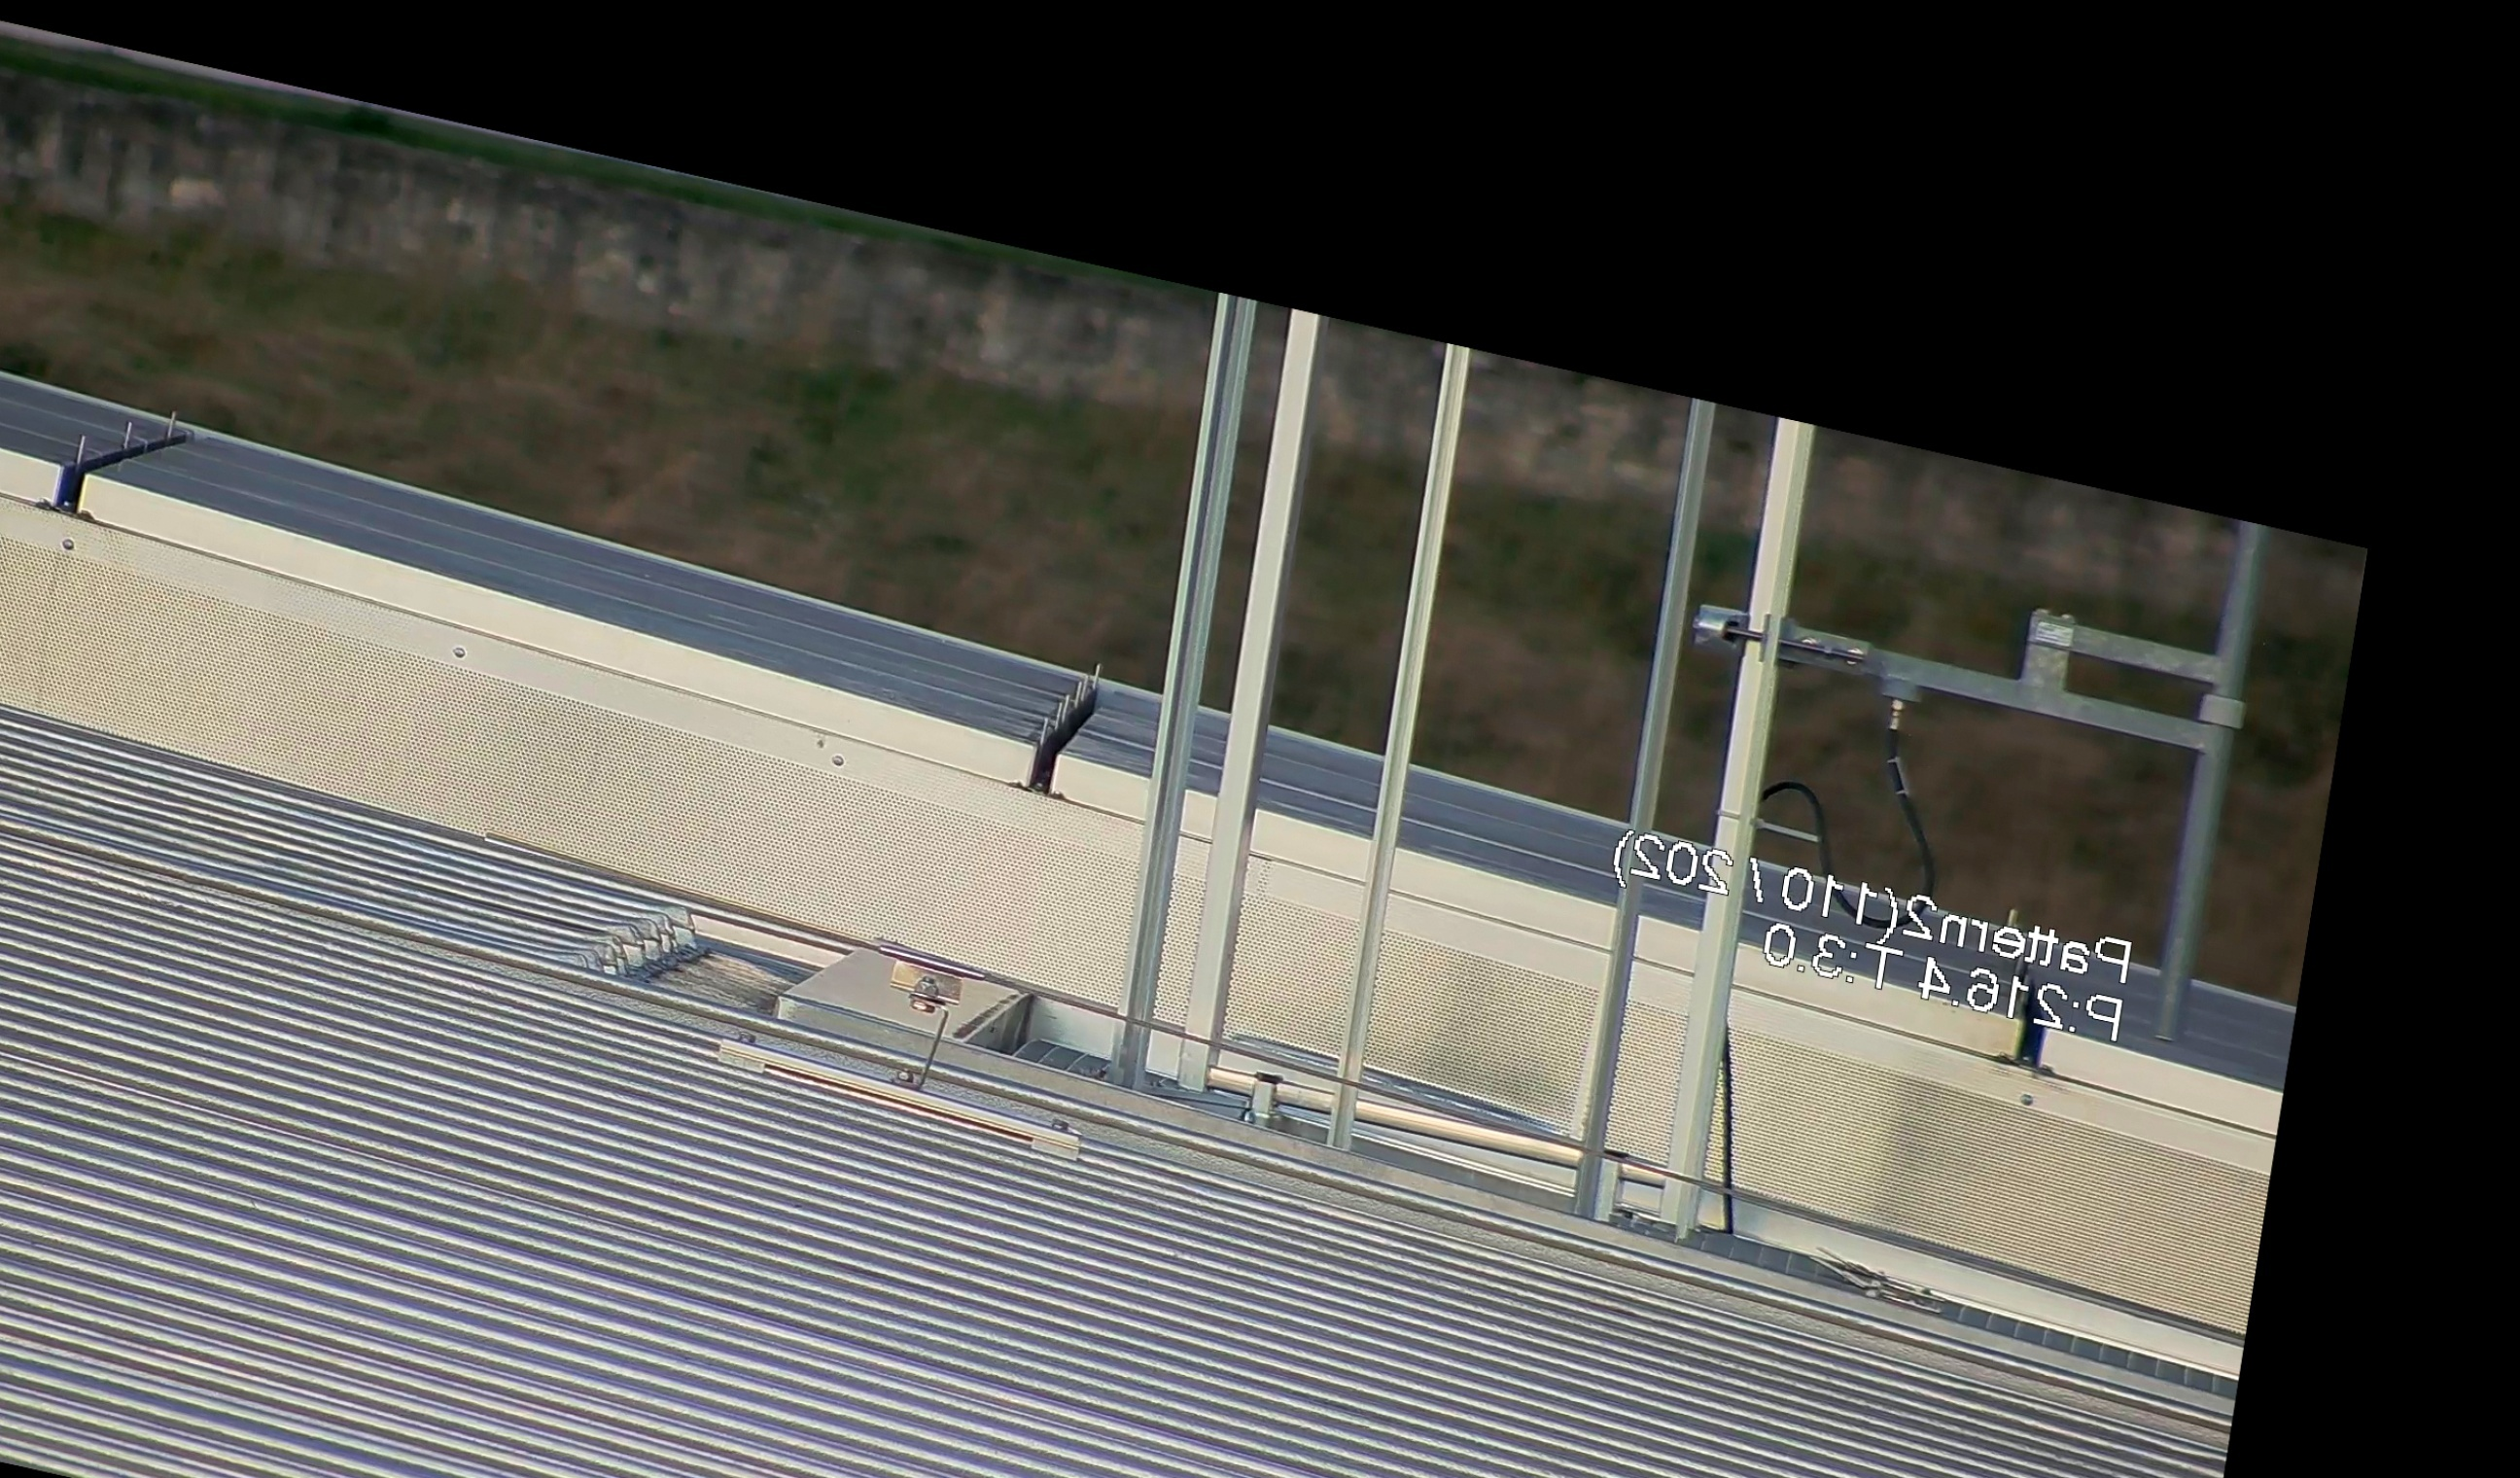Other: (997, 630, 1140, 823)
